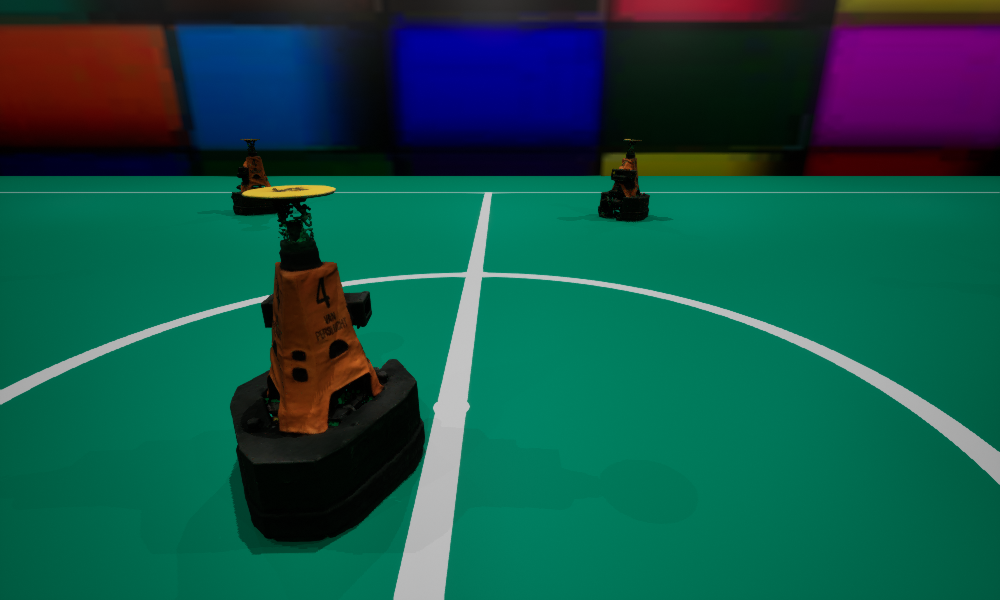0 orange robot TechUnited: (230, 185, 424, 541), (598, 139, 649, 220), (231, 139, 286, 214)
